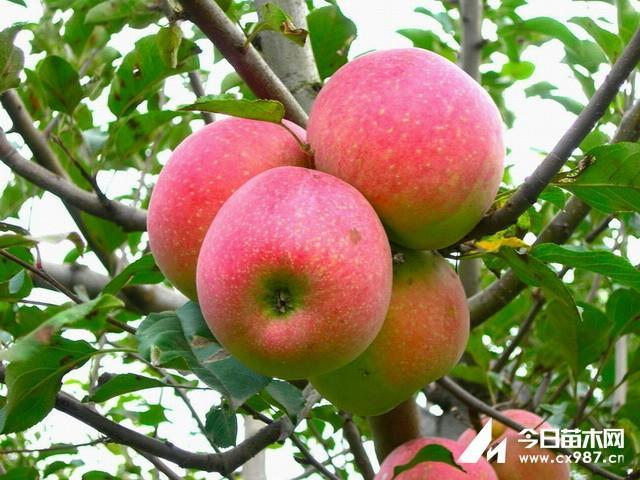apple: (197, 166, 394, 382), (301, 46, 503, 248), (148, 120, 297, 291), (319, 249, 469, 415)
